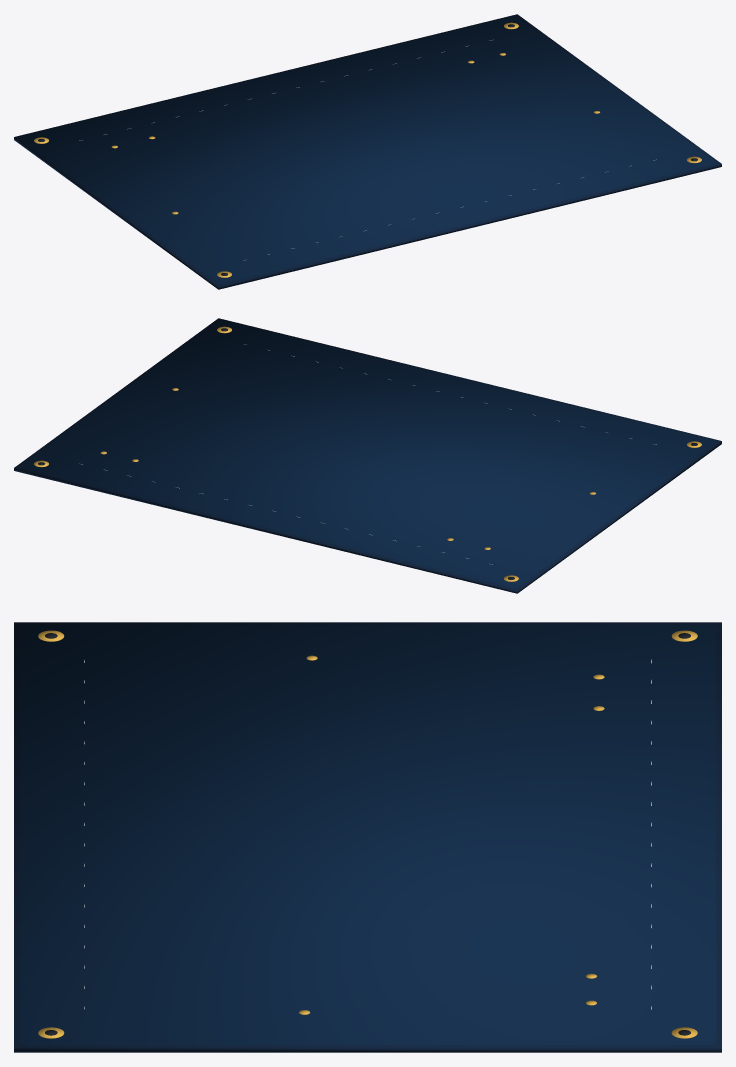
Rendered from 101_L105_PCB_ENX13_270x190mm.fbx.
3 renders of one model, top to bottom at view 1: azimuth 30°, elevation 25°; view 2: azimuth 150°, elevation 25°; view 3: azimuth 270°, elevation 25°, orthographic. The views are drawn at different scales.
Parts seen in each view (by area): view 1: PCB_ENX13_270x190mm_mask, PCB_ENX13_270x190mm_pcb; view 2: PCB_ENX13_270x190mm_mask, PCB_ENX13_270x190mm_pcb; view 3: PCB_ENX13_270x190mm_mask, PCB_ENX13_270x190mm_pcb, PCB_ENX13_270x190mm_gold.
Part boxes in pixels (bbox=[...]): PCB_ENX13_270x190mm_mask: bbox=[18, 16, 717, 284]; PCB_ENX13_270x190mm_pcb: bbox=[14, 14, 721, 289]; PCB_ENX13_270x190mm_mask: bbox=[18, 320, 717, 588]; PCB_ENX13_270x190mm_pcb: bbox=[14, 318, 721, 593]; PCB_ENX13_270x190mm_mask: bbox=[19, 624, 716, 1044]; PCB_ENX13_270x190mm_pcb: bbox=[14, 622, 721, 1052]; PCB_ENX13_270x190mm_gold: bbox=[38, 630, 697, 1038].
Size of the model in its own units: 0.27 by 0.00176 by 0.19.
